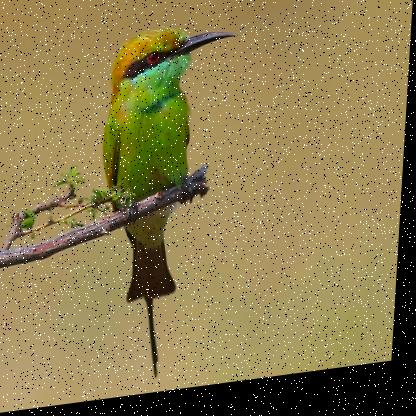Burung: (93, 24, 238, 393)
